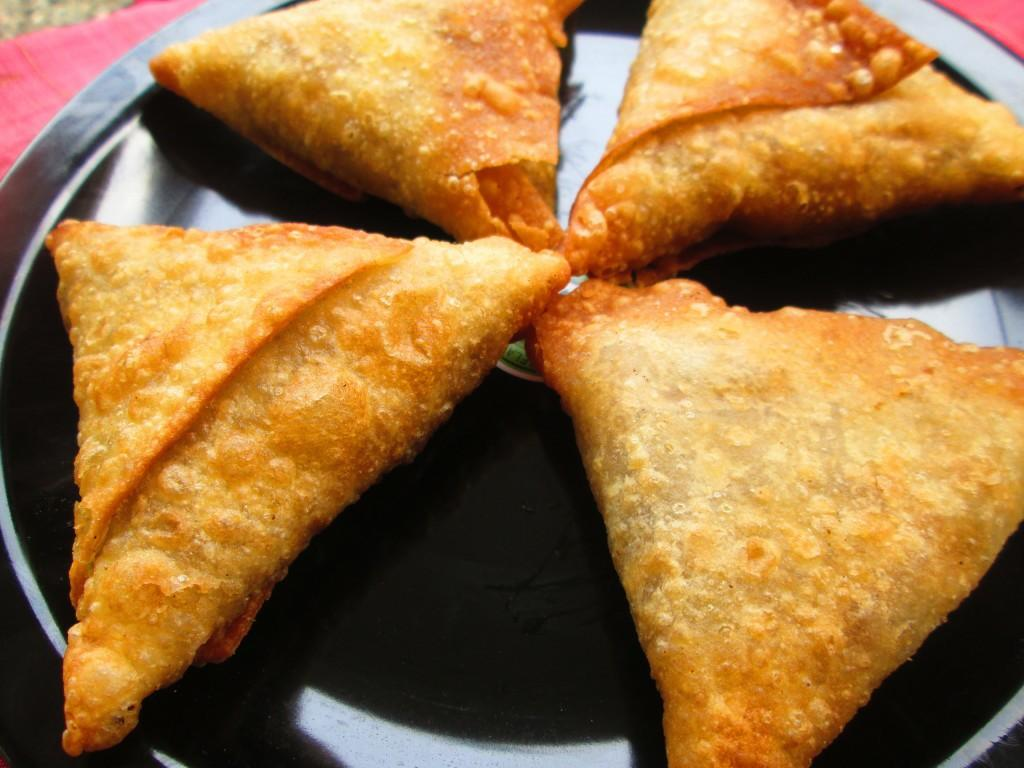Samosa: (56, 221, 573, 754), (528, 277, 1024, 765), (571, 0, 1024, 265), (147, 3, 570, 242)
